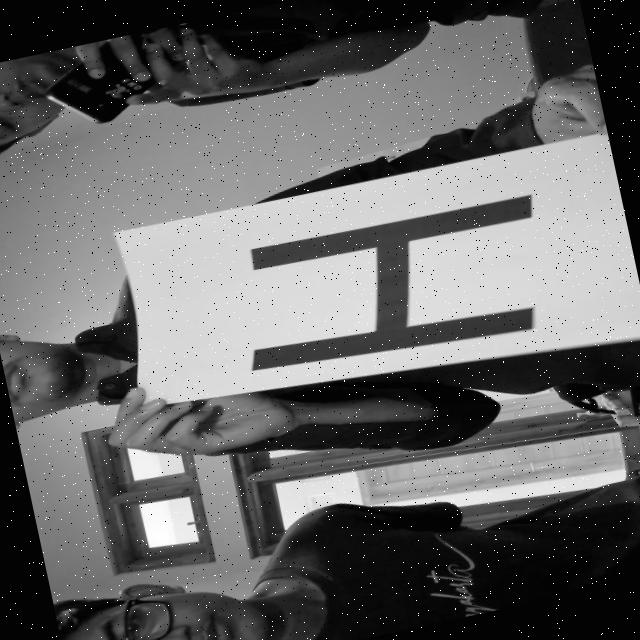h: (204, 166, 591, 398)
